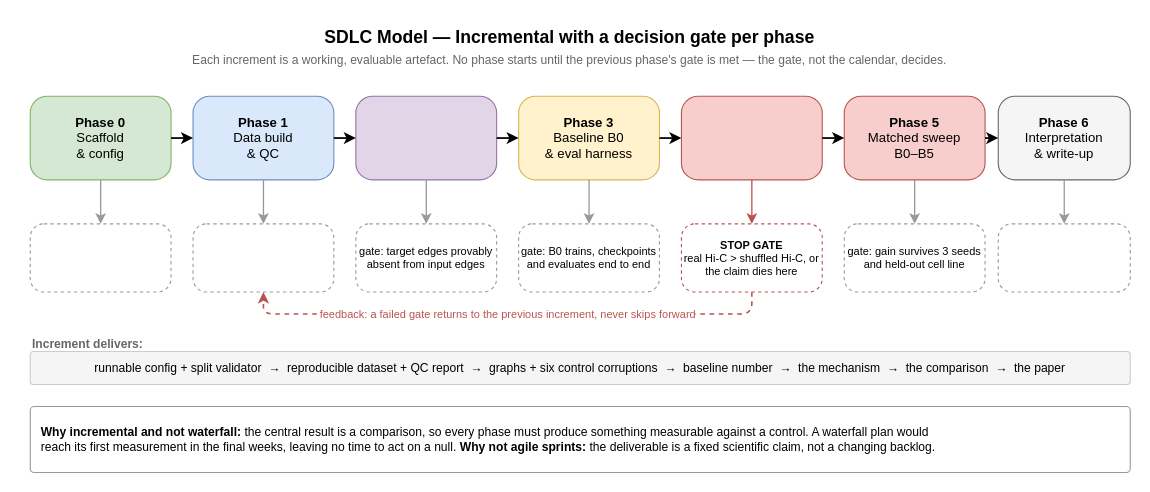
The diagram is 1150 pixels wide and 492 high, and some of its shapes have lost their labels. The shapes that lost their labels are listed below. From the top down, each one's centre as x and y in pixels, then its label:
At point 426,137: "Phase 2 Contact graphs & controls".
At point 751,137: "Phase 4 Contact-biased model".
At point 100,257: "gate: config rejects a chromosome leak".
At point 263,257: "gate: bins, windows and coordinates align at 5 inspected loci".
At point 1063,257: "gate: every number traces to a tracked file".
